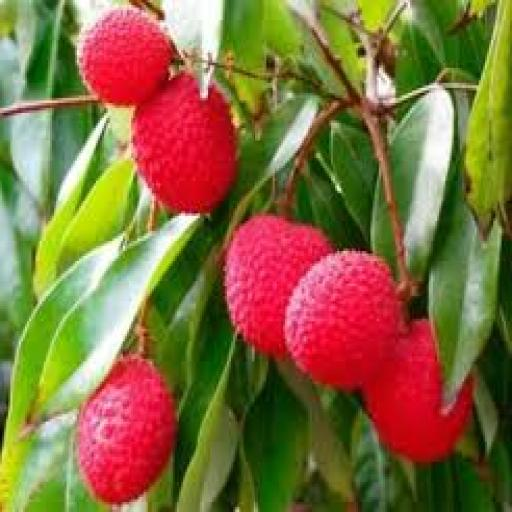lychee: (285, 251, 402, 389), (364, 319, 471, 461), (224, 216, 329, 358), (133, 73, 236, 213), (77, 357, 175, 504), (77, 8, 171, 105)
